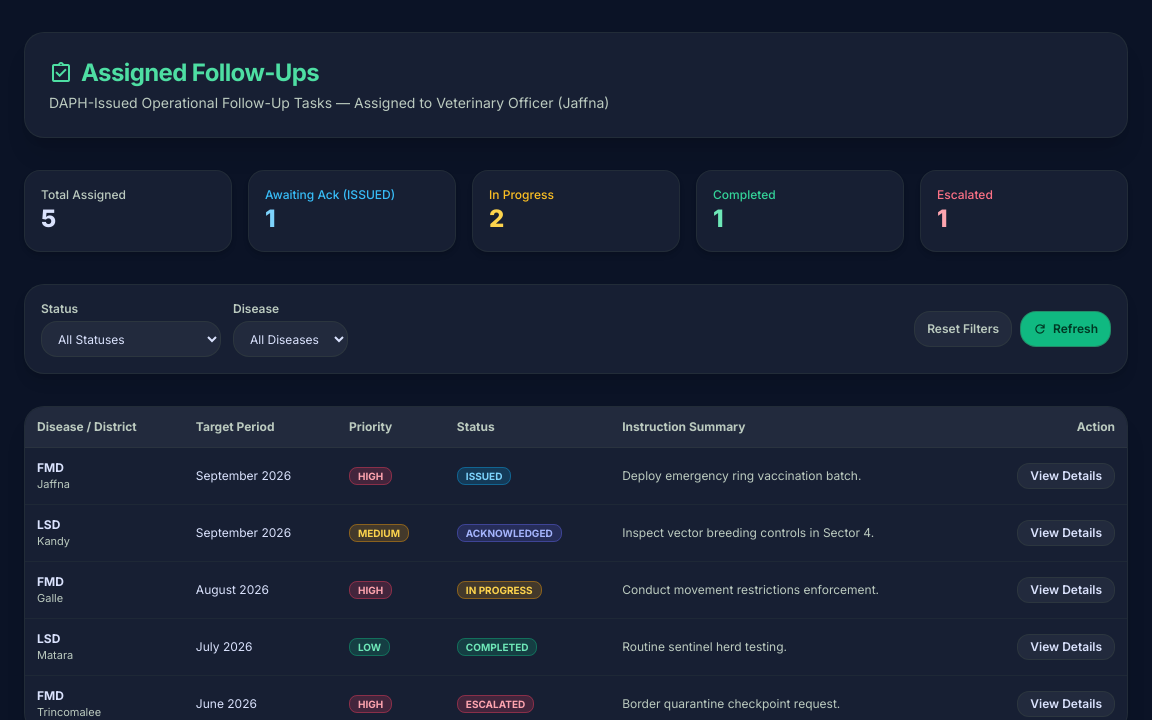
VeterinaryAssignedFollowUps Component › Detail Panel & Scientific Snapshot › renders correct snapshot values for FOL-002 and absent proxy notice
The width and height of the screenshot is (1152, 720).
Expected: the text "Kandy" is shown, [37, 533, 70, 549]
Click the button "View Details" in the row of "Kandy".
click(1066, 533)  # box [1017, 520, 1115, 546]
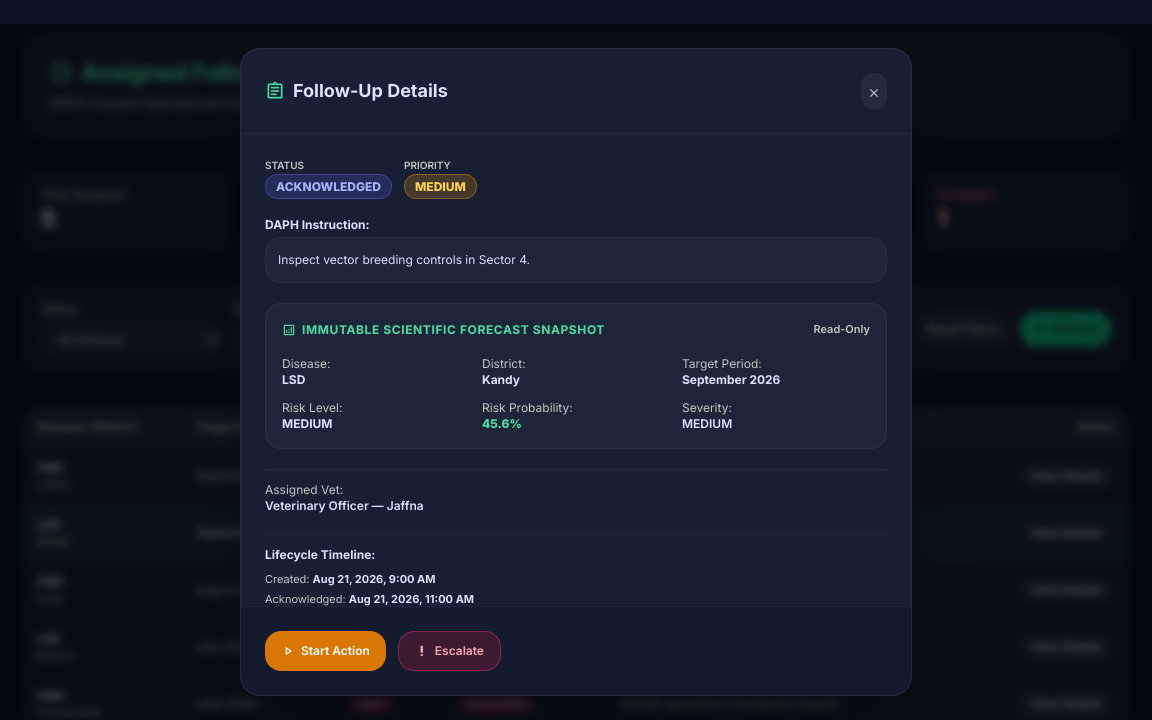
Result: the text "45.6%" is shown at [482, 416, 522, 430]
